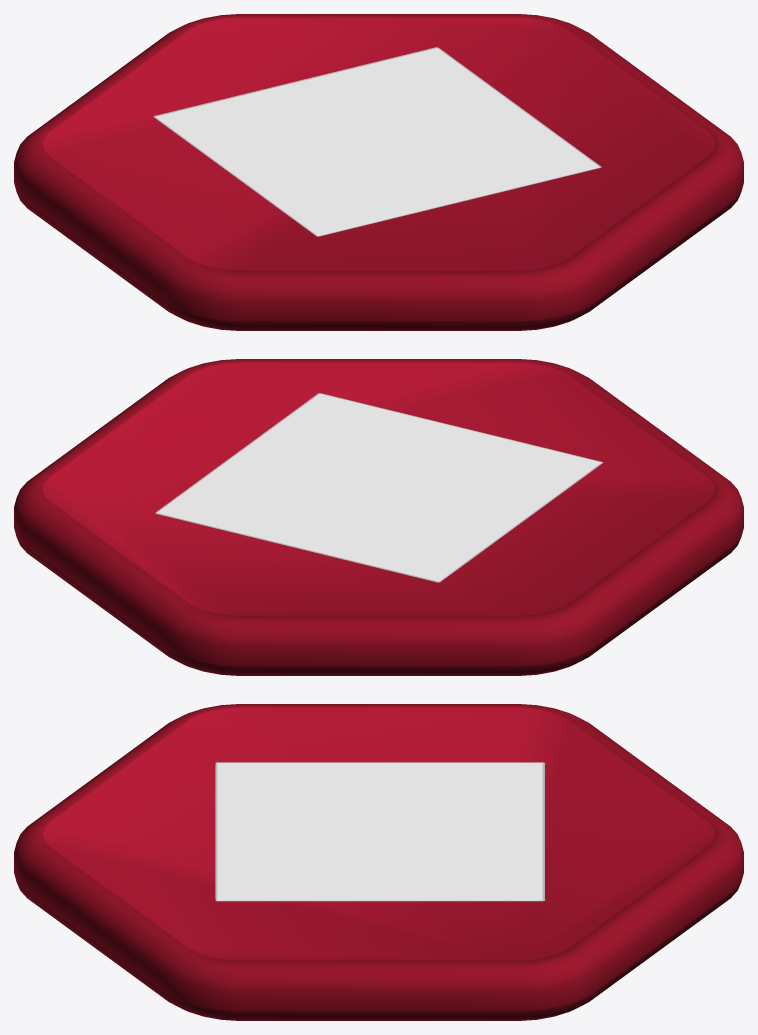
File: stop (3).fbx
3 renders of one model, top to bottom at view 1: azimuth 30°, elevation 25°; view 2: azimuth 150°, elevation 25°; view 3: azimuth 270°, elevation 25°, orthographic.
Parts seen in each view (by area): view 1: Cylinder.027, Plane.003; view 2: Cylinder.027, Plane.003; view 3: Cylinder.027, Plane.003.
Boxes of the visible parts, <box> form: Cylinder.027: <box>14,14,743,330</box>; Plane.003: <box>153,47,601,236</box>; Cylinder.027: <box>14,359,743,675</box>; Plane.003: <box>155,393,603,582</box>; Cylinder.027: <box>14,704,743,1020</box>; Plane.003: <box>215,762,544,901</box>.
Bounding box in the file's own units: 173 × 17.05 × 193.
Materials: 2 (2 with a texture image).
